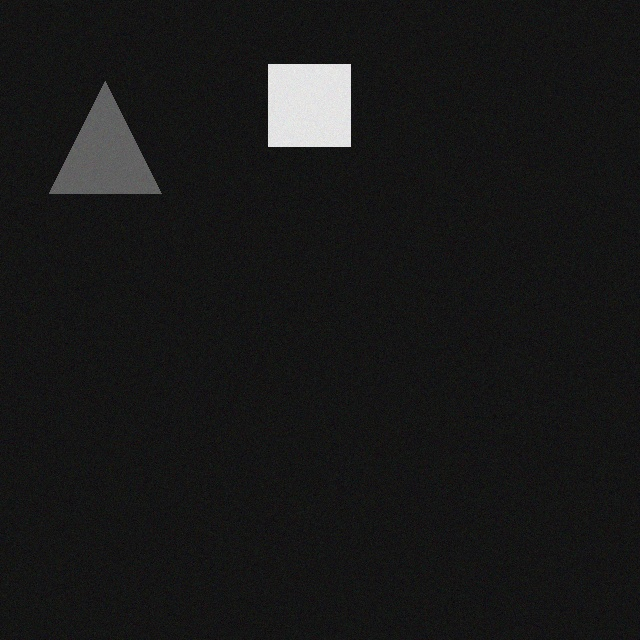square: (257, 72, 339, 154)
triangle: (38, 89, 150, 201)
